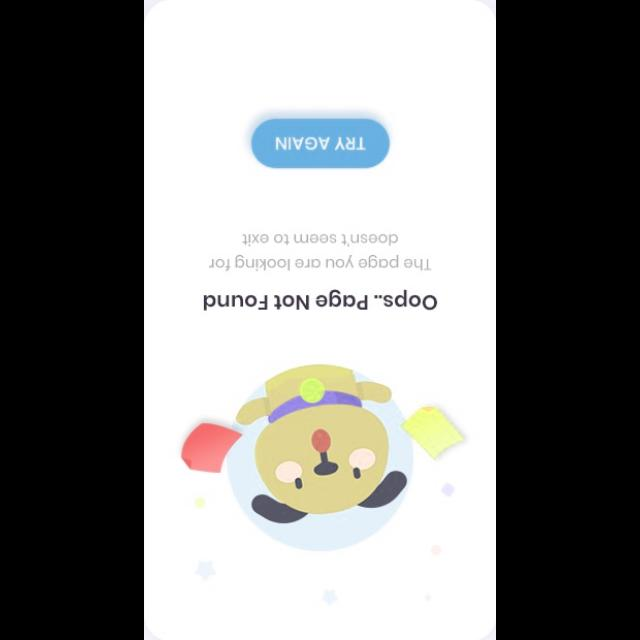image: (180, 364, 466, 552)
text: (208, 233, 432, 271), (203, 290, 437, 310)
textbutton: (250, 118, 390, 168)
